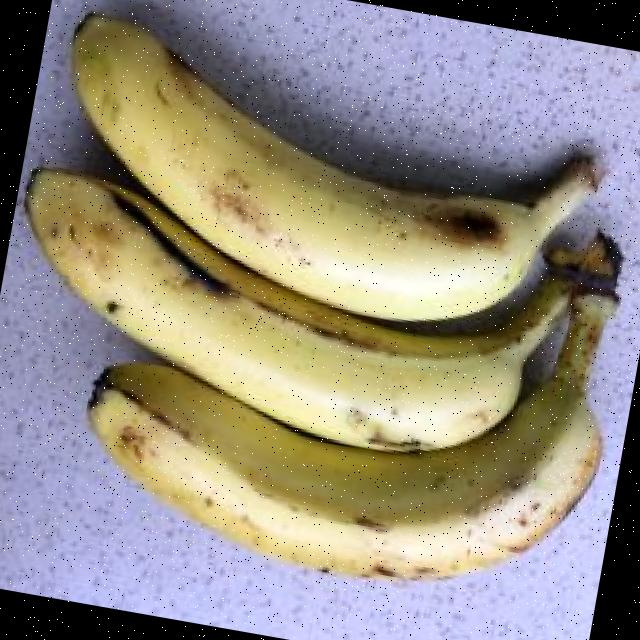banana: (91, 239, 622, 583), (69, 13, 594, 336), (23, 170, 614, 453)
